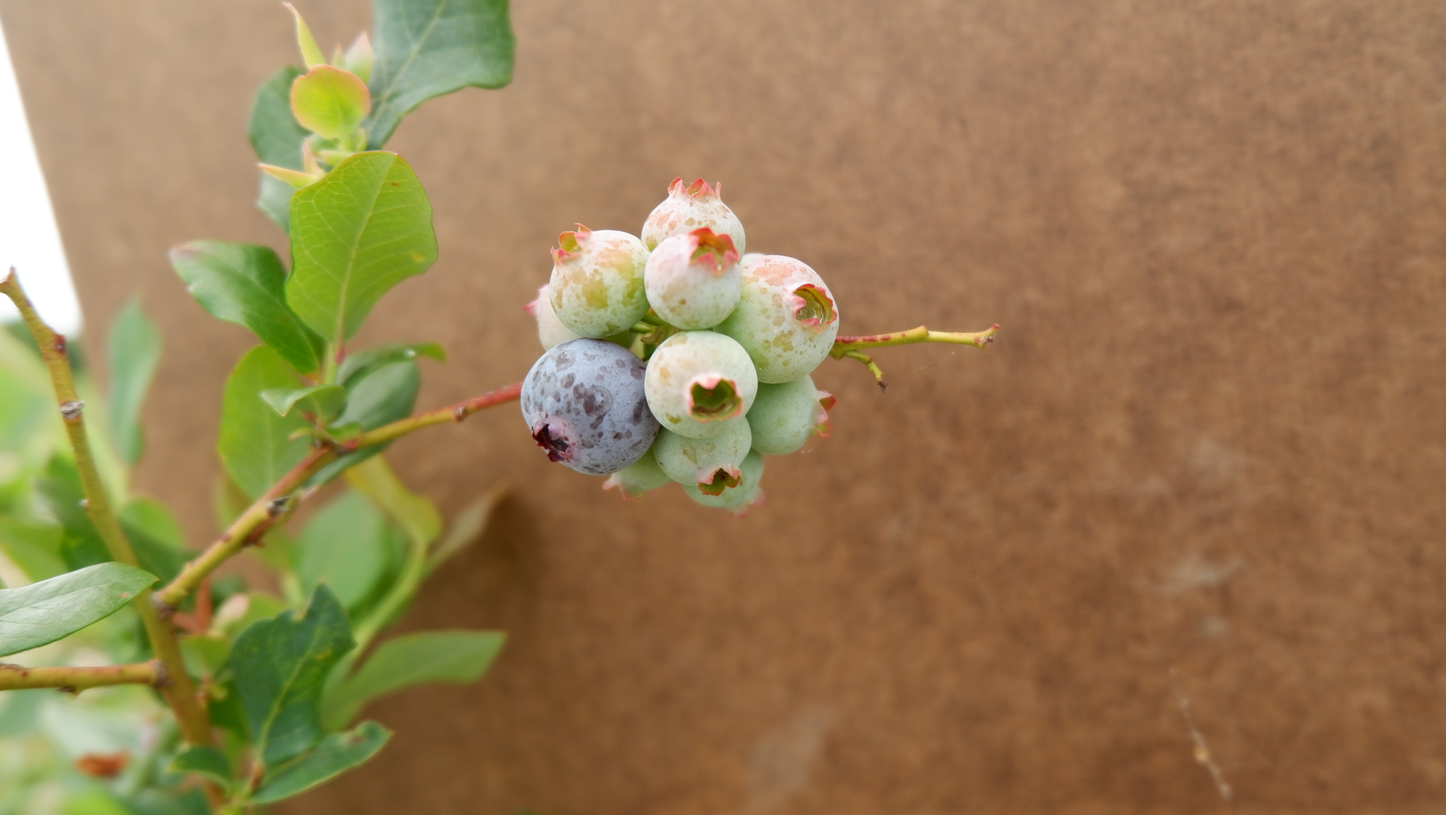Immature: (712, 255, 840, 383), (645, 330, 758, 439), (549, 223, 652, 339), (644, 229, 742, 330), (641, 177, 746, 265), (523, 283, 642, 352), (652, 418, 753, 496), (746, 374, 836, 456), (681, 448, 766, 518), (603, 444, 672, 502), (740, 253, 766, 265)
Mature: (520, 337, 660, 475)
